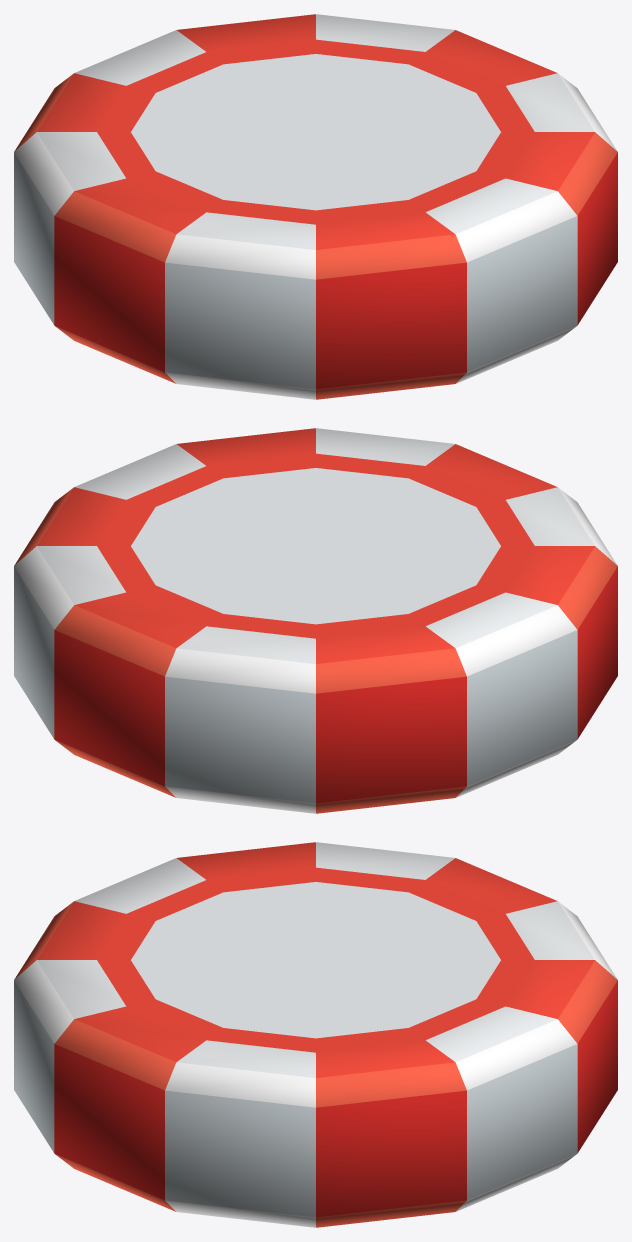
The model's file is Chips_R.fbx.
3 views of the same model, one above another, from view 1: azimuth 30°, elevation 25°; view 2: azimuth 150°, elevation 25°; view 3: azimuth 270°, elevation 25° (orthographic).
Visible parts, largest first — view 1: Chips_R; view 2: Chips_R; view 3: Chips_R.
Boxes of the visible parts, box(x1,y1,x2,y2) form: Chips_R: box(14, 14, 617, 399); Chips_R: box(14, 428, 617, 813); Chips_R: box(14, 842, 617, 1227).
Bounding box in the file's own units: 0.7047 × 0.7047 × 0.1927.
